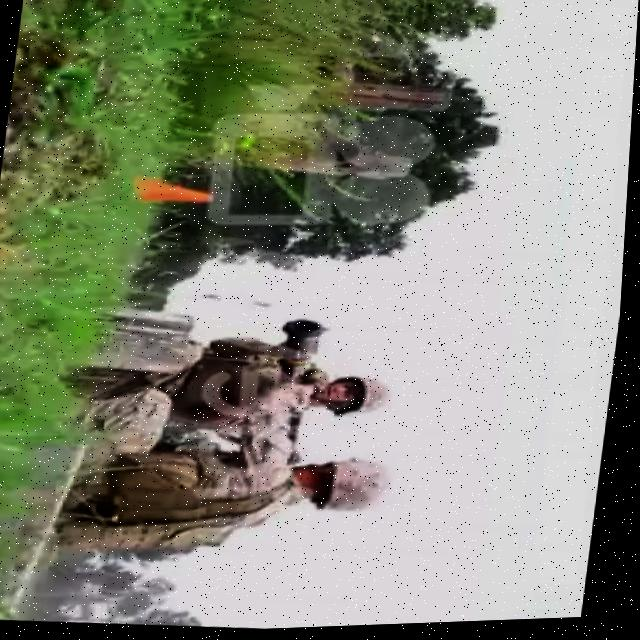rocket: (281, 318, 326, 380)
